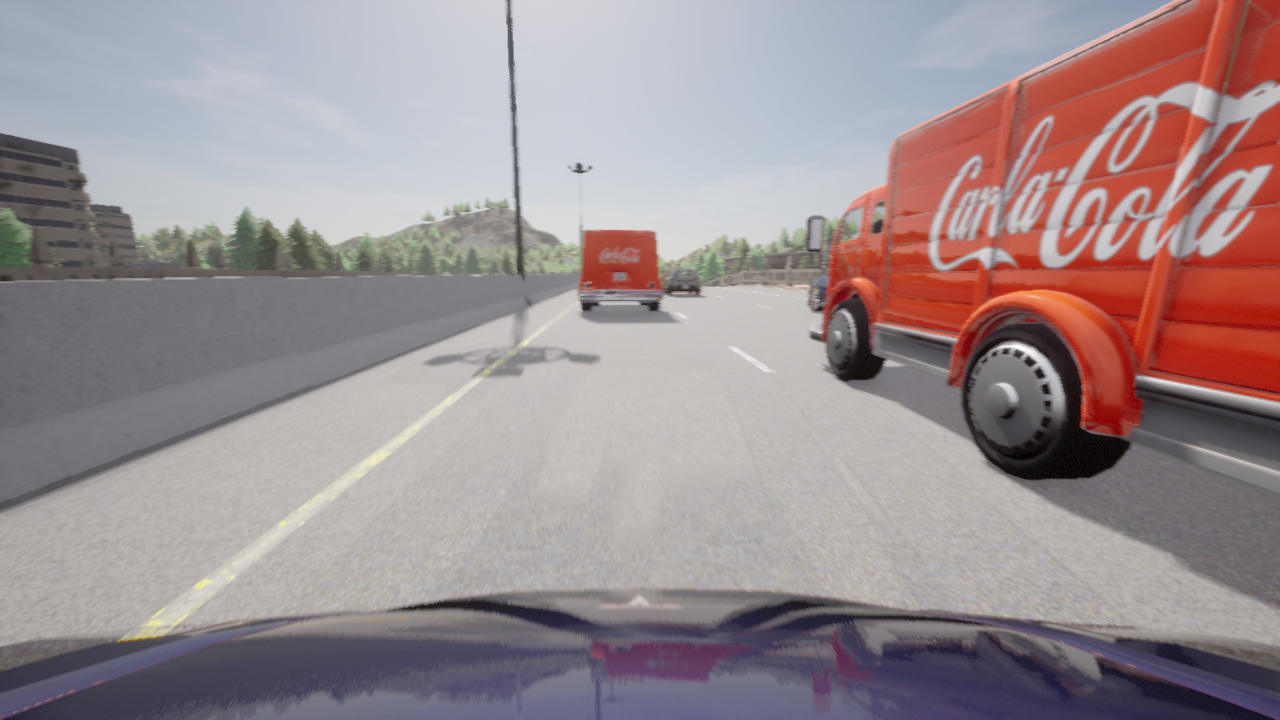cyclist: (806, 0, 1279, 493), (0, 588, 1279, 719), (578, 230, 662, 311), (662, 268, 700, 295), (808, 271, 829, 311)
